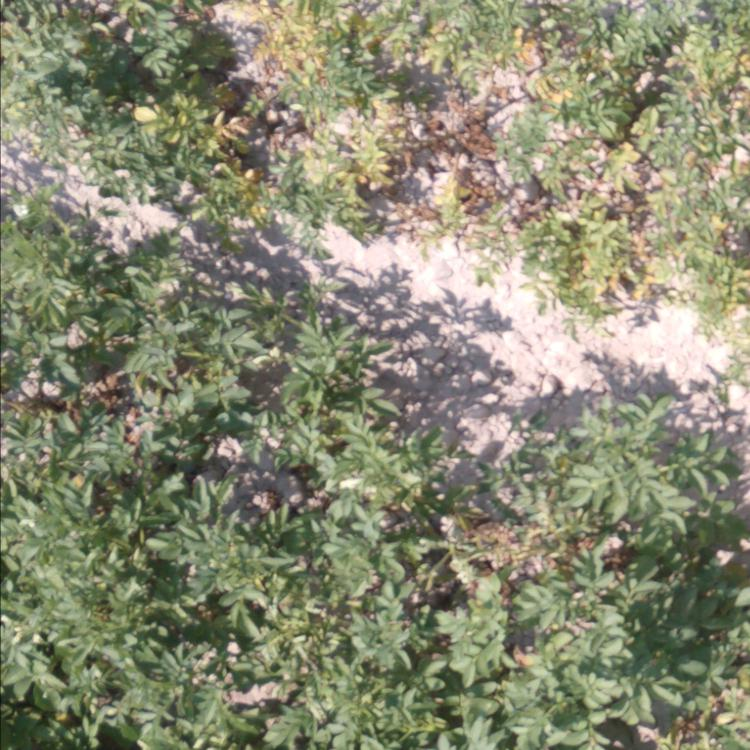healthy: (248, 498, 502, 750), (1, 219, 234, 491), (1, 497, 240, 750), (506, 519, 746, 750), (241, 286, 424, 496), (507, 375, 750, 510), (3, 1, 65, 161), (441, 441, 501, 496)
stressed: (504, 2, 745, 194), (506, 197, 739, 317), (392, 1, 498, 254), (272, 1, 387, 228), (69, 1, 264, 105), (66, 110, 265, 206)
